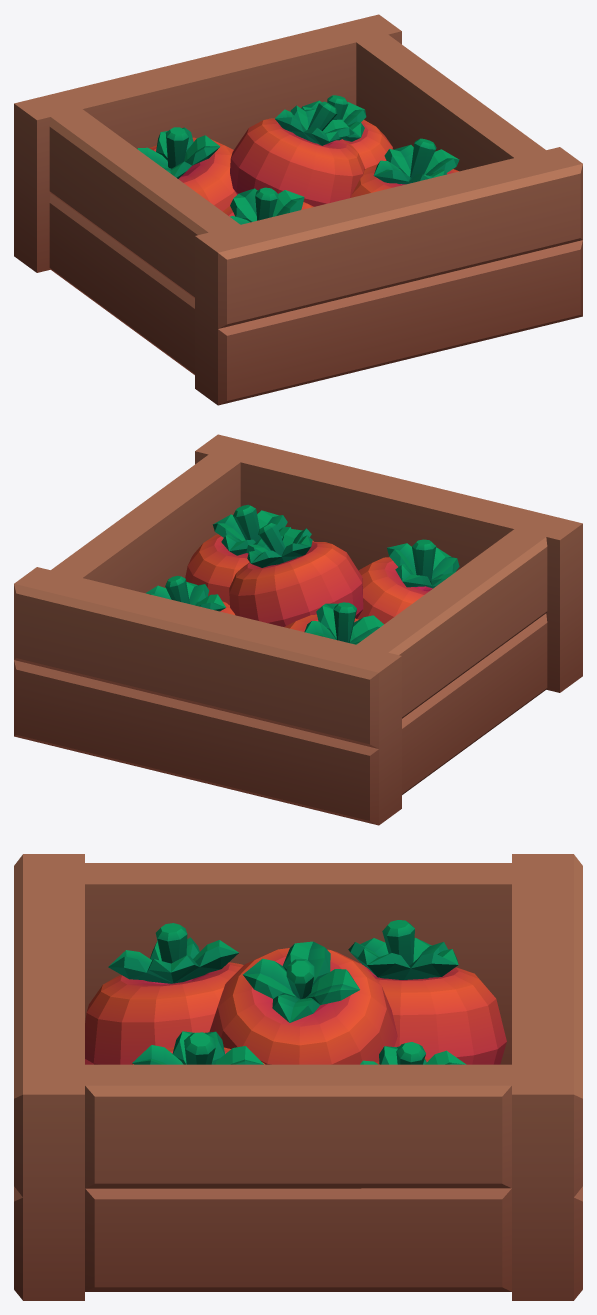
The model's file is CrateTomatoes.obj.
3 renders of one model, top to bottom at view 1: azimuth 30°, elevation 25°; view 2: azimuth 150°, elevation 25°; view 3: azimuth 270°, elevation 25°, orthographic. The views are drawn at different scales.
Parts seen in each view (by area): view 1: Cube.230; view 2: Cube.230; view 3: Cube.230.
Part boxes in pixels (x1,y1,x2,y2): Cube.230: (14, 14, 582, 405); Cube.230: (14, 434, 582, 825); Cube.230: (14, 854, 582, 1300).
Size of the model in its own units: 2 by 0.9233 by 2.
Materials: 1 (1 with a texture image).
